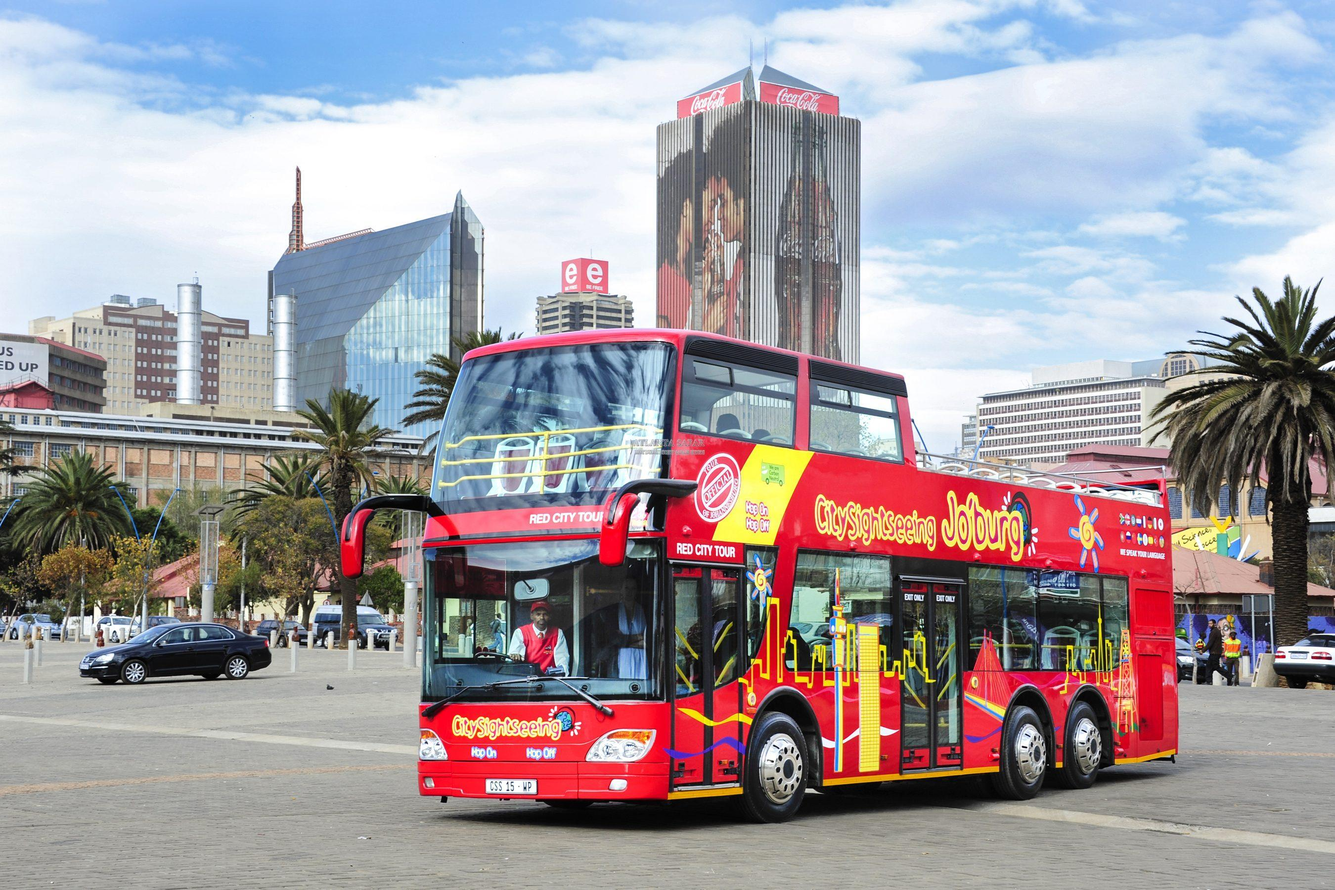Bus: (413, 320, 1184, 825)
